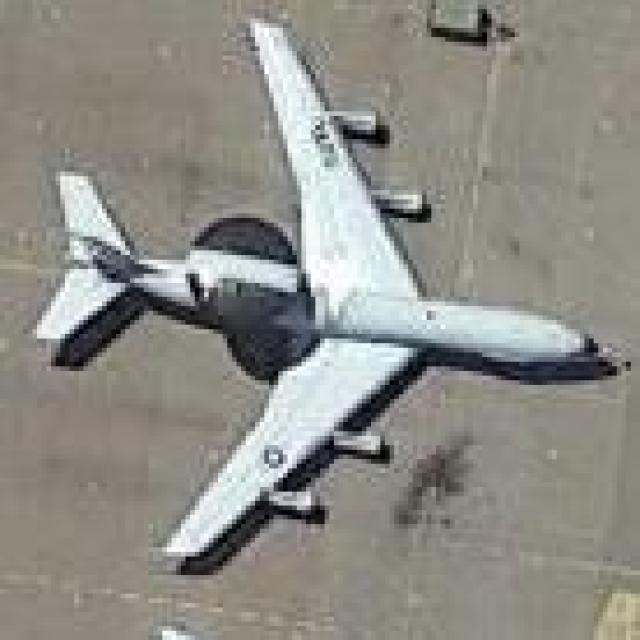E-3_TopDown: (28, 9, 631, 575)
